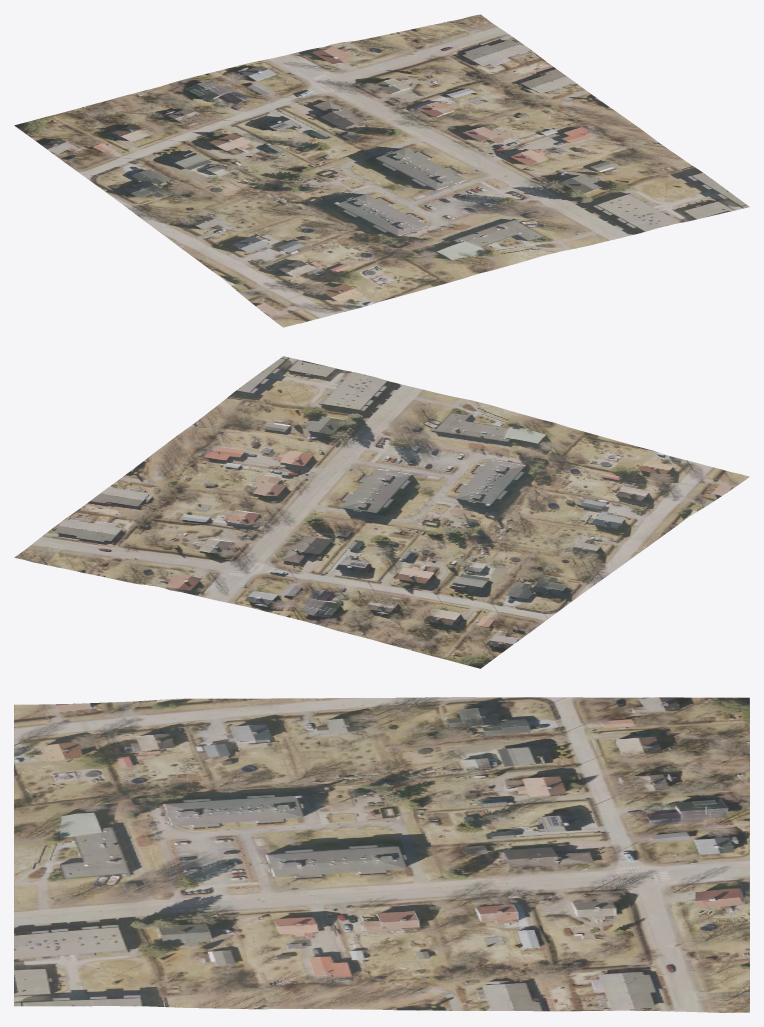
File: CM_Terrain_24491278_6820818.fbx
3 views of the same model, one above another, from view 1: azimuth 30°, elevation 25°; view 2: azimuth 150°, elevation 25°; view 3: azimuth 270°, elevation 25° (orthographic). The views are drawn at different scales.
Parts seen in each view (by area): view 1: CM_Terrain_24491278_6820818_LOD0; view 2: CM_Terrain_24491278_6820818_LOD0; view 3: CM_Terrain_24491278_6820818_LOD0.
Boxes of the visible parts, bbox=[...] form: CM_Terrain_24491278_6820818_LOD0: bbox=[14, 14, 749, 327]; CM_Terrain_24491278_6820818_LOD0: bbox=[14, 356, 749, 668]; CM_Terrain_24491278_6820818_LOD0: bbox=[14, 697, 749, 1012].
Size of what is drawn, in the model's own units: 205 by 4.76 by 205.
